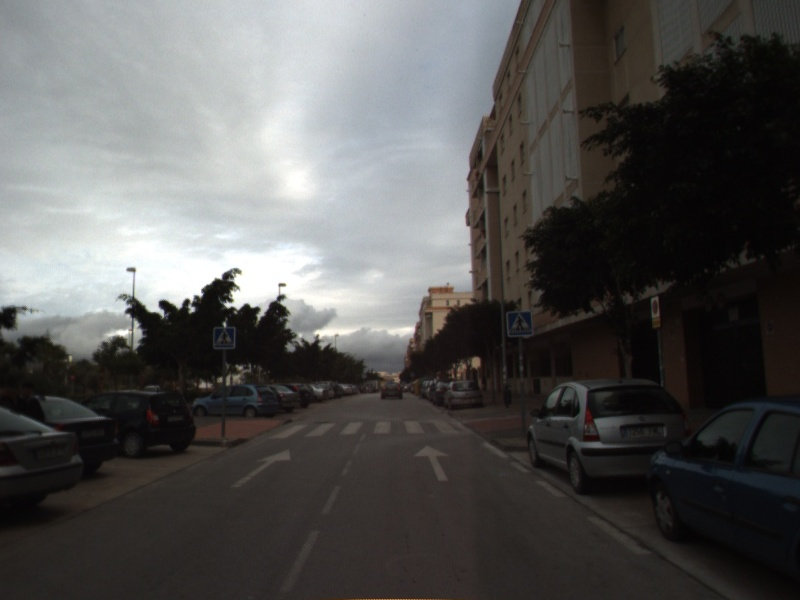STRAIGHT: (229, 447, 292, 489), (412, 442, 451, 483)
